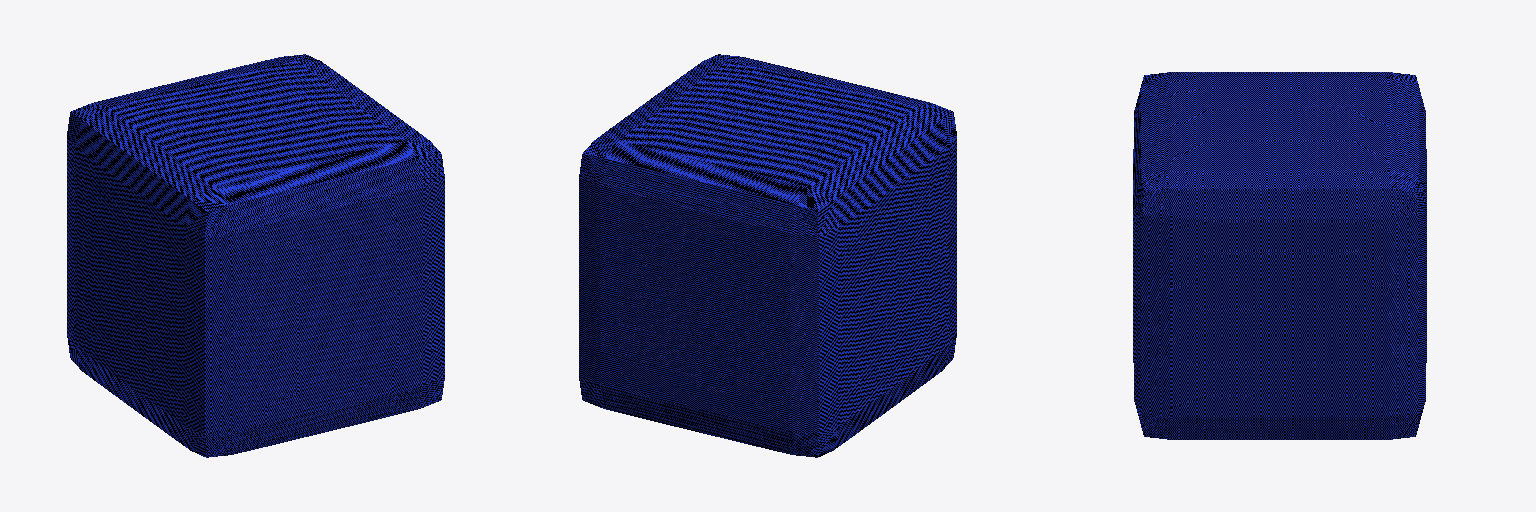
The picture shows the model from 3 angles: view 1: azimuth 30°, elevation 25°; view 2: azimuth 150°, elevation 25°; view 3: azimuth 270°, elevation 25°; orthographic projection.
Visible parts, largest first — view 1: Cube; view 2: Cube; view 3: Cube.
Boxes of the visible parts, <box> form: Cube: <box>67,54,444,457</box>; Cube: <box>579,54,956,457</box>; Cube: <box>1133,72,1426,439</box>.
Size of the model in its own units: 0.08 by 0.08 by 0.08.
Materials: 1 (1 with a texture image).